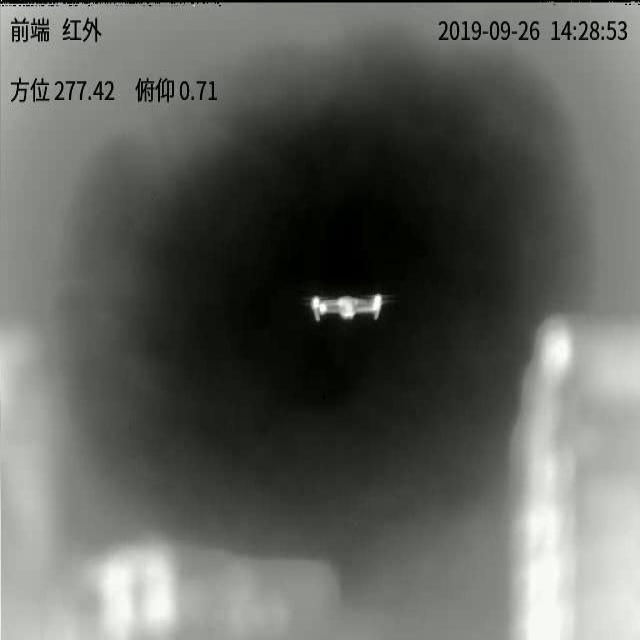drone: (305, 293, 389, 321)
